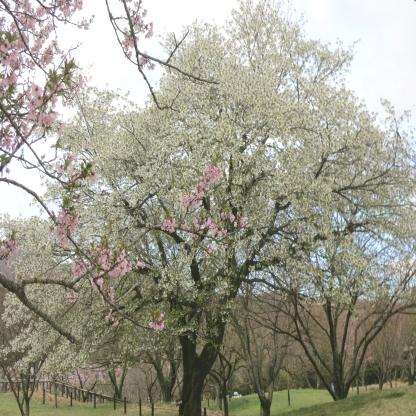Someiyoshino: (1, 0, 416, 364), (297, 98, 416, 401), (236, 155, 363, 416), (81, 206, 140, 397), (132, 242, 191, 402)
